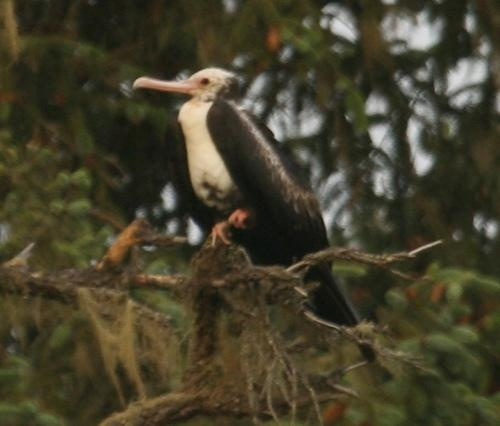bird: (128, 68, 396, 368)
